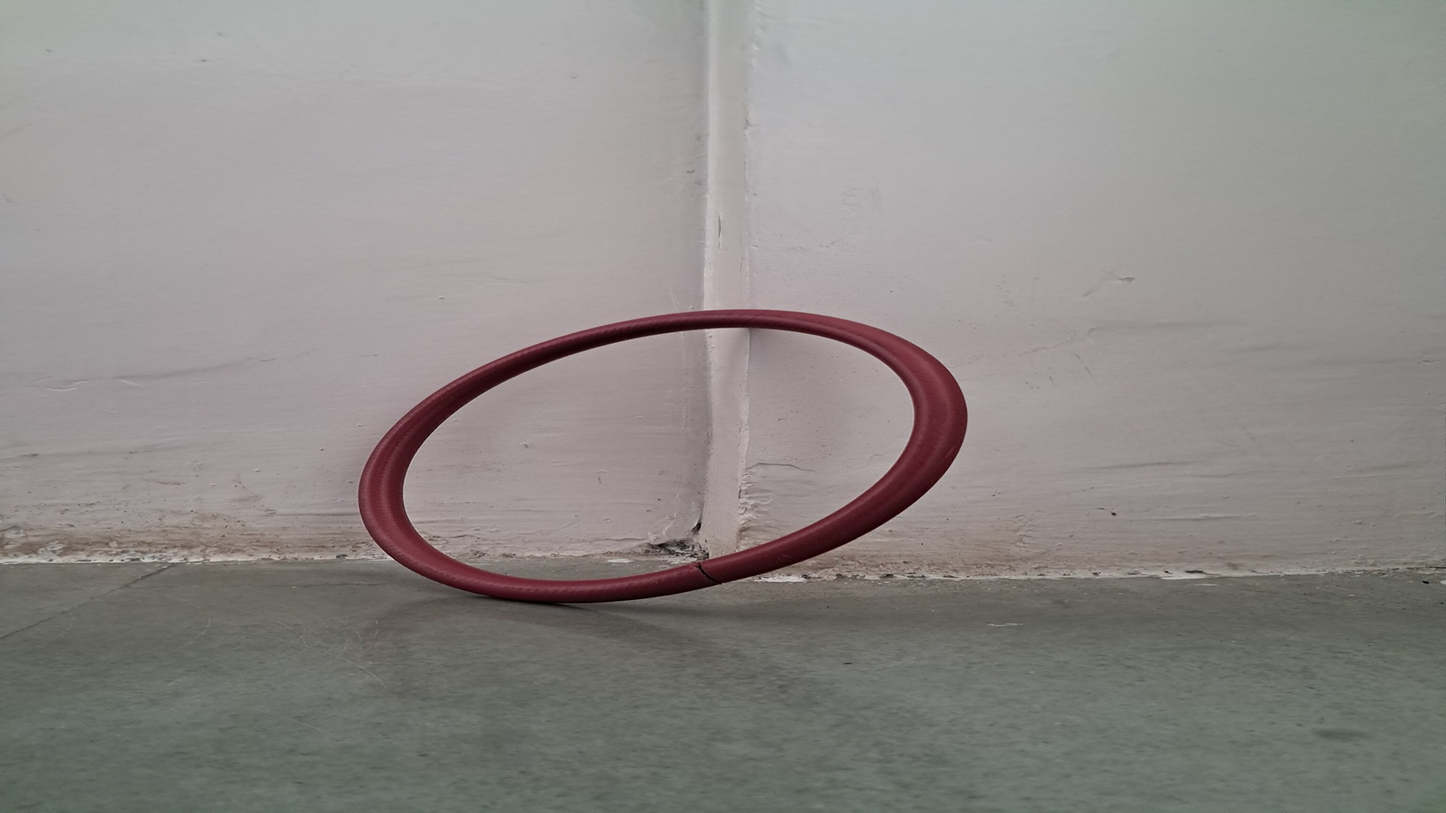Red ring: (355, 309, 958, 600)
